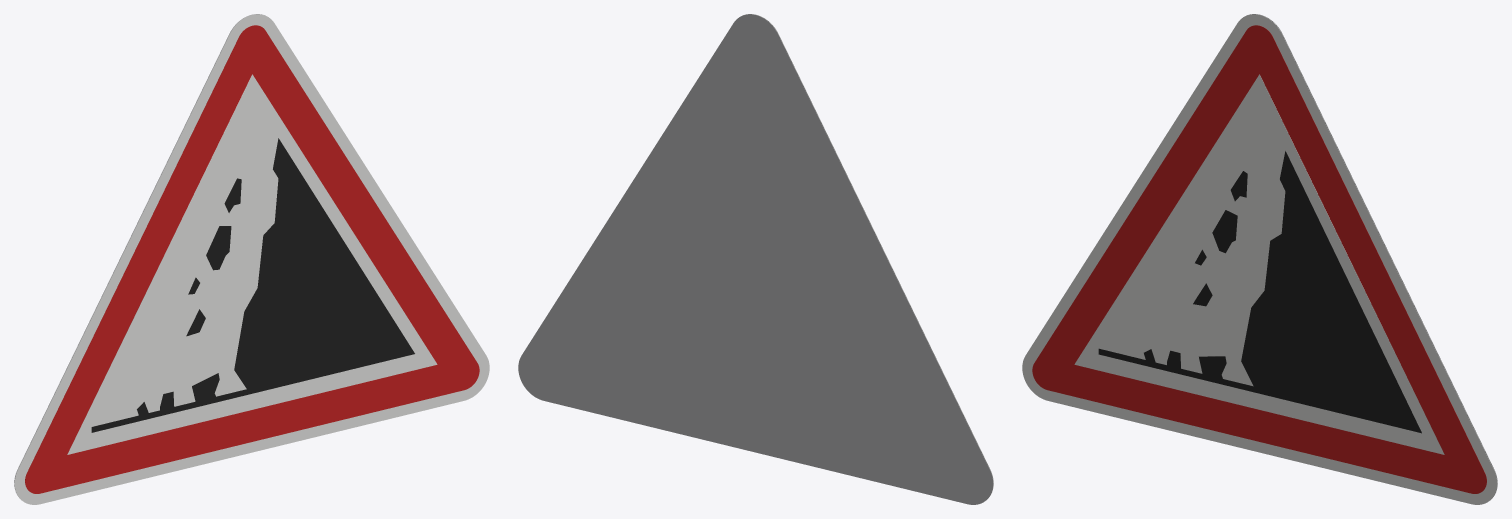
3 views of the same model, side by side, from view 1: azimuth 30°, elevation 25°; view 2: azimuth 150°, elevation 25°; view 3: azimuth 330°, elevation 25° (orthographic).
Visible parts, largest first — view 1: A19_p01, A19_p02, A19_p03, A19_p00, A19_p06, A19_dos; view 2: A19_dos, A19_p00; view 3: A19_p01, A19_p02, A19_p03, A19_p00, A19_p06, A19_dos.
Boxes of the visible parts, box(x1,y1,x2,y2) form: A19_p01: box(25, 25, 479, 493); A19_p02: box(67, 74, 437, 454); A19_p03: box(91, 138, 414, 432); A19_p00: box(14, 14, 489, 504); A19_p06: box(206, 226, 231, 270); A19_dos: box(14, 14, 265, 500); A19_dos: box(518, 14, 993, 504); A19_p00: box(742, 14, 993, 500); A19_p01: box(1032, 25, 1486, 493); A19_p02: box(1074, 74, 1444, 454); A19_p03: box(1098, 151, 1421, 433); A19_p00: box(1022, 14, 1497, 504); A19_p06: box(1212, 210, 1237, 253); A19_dos: box(1246, 14, 1497, 500).
Size of the model in its own units: 1 by 0.8803 by 0.0047.
